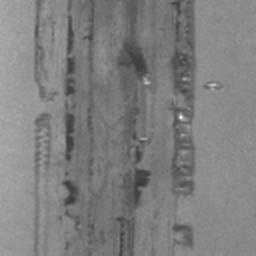Slag inclusion: (60, 0, 157, 253), (166, 0, 198, 200), (32, 111, 52, 256), (32, 0, 46, 100), (172, 223, 195, 248), (204, 82, 221, 90)
